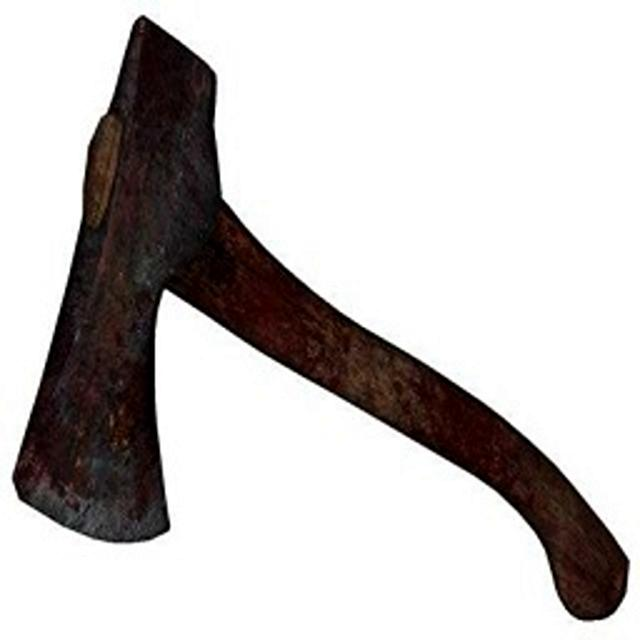ax: (3, 4, 640, 634)
